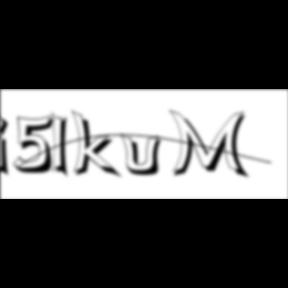5: (13, 114, 60, 176)
I: (52, 110, 76, 182)
M: (168, 108, 252, 181)
i: (0, 112, 16, 180)
k: (70, 108, 124, 181)
u: (121, 132, 169, 178)
